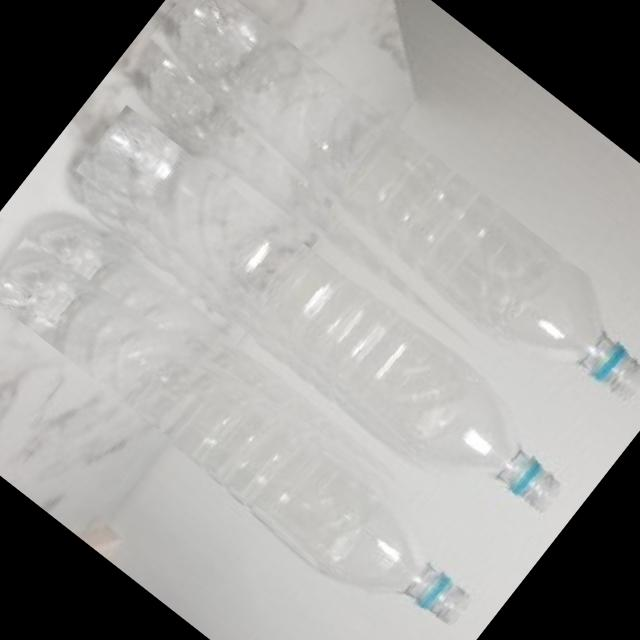plastic bottle: (111, 0, 640, 455), (58, 105, 582, 547), (0, 200, 507, 640)
